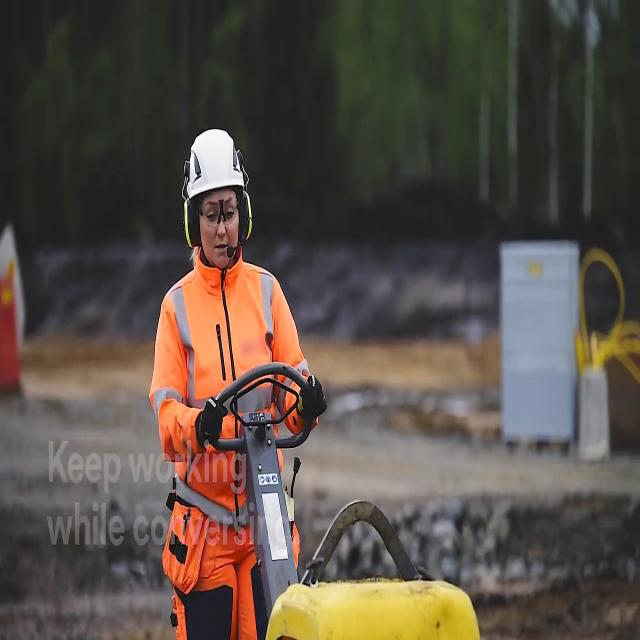earmuff: (183, 194, 201, 250), (238, 188, 254, 245)
glasses: (199, 195, 243, 225)
helmet: (186, 123, 246, 200)
